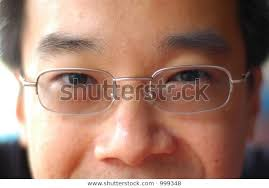Glasses: (14, 61, 250, 111)
